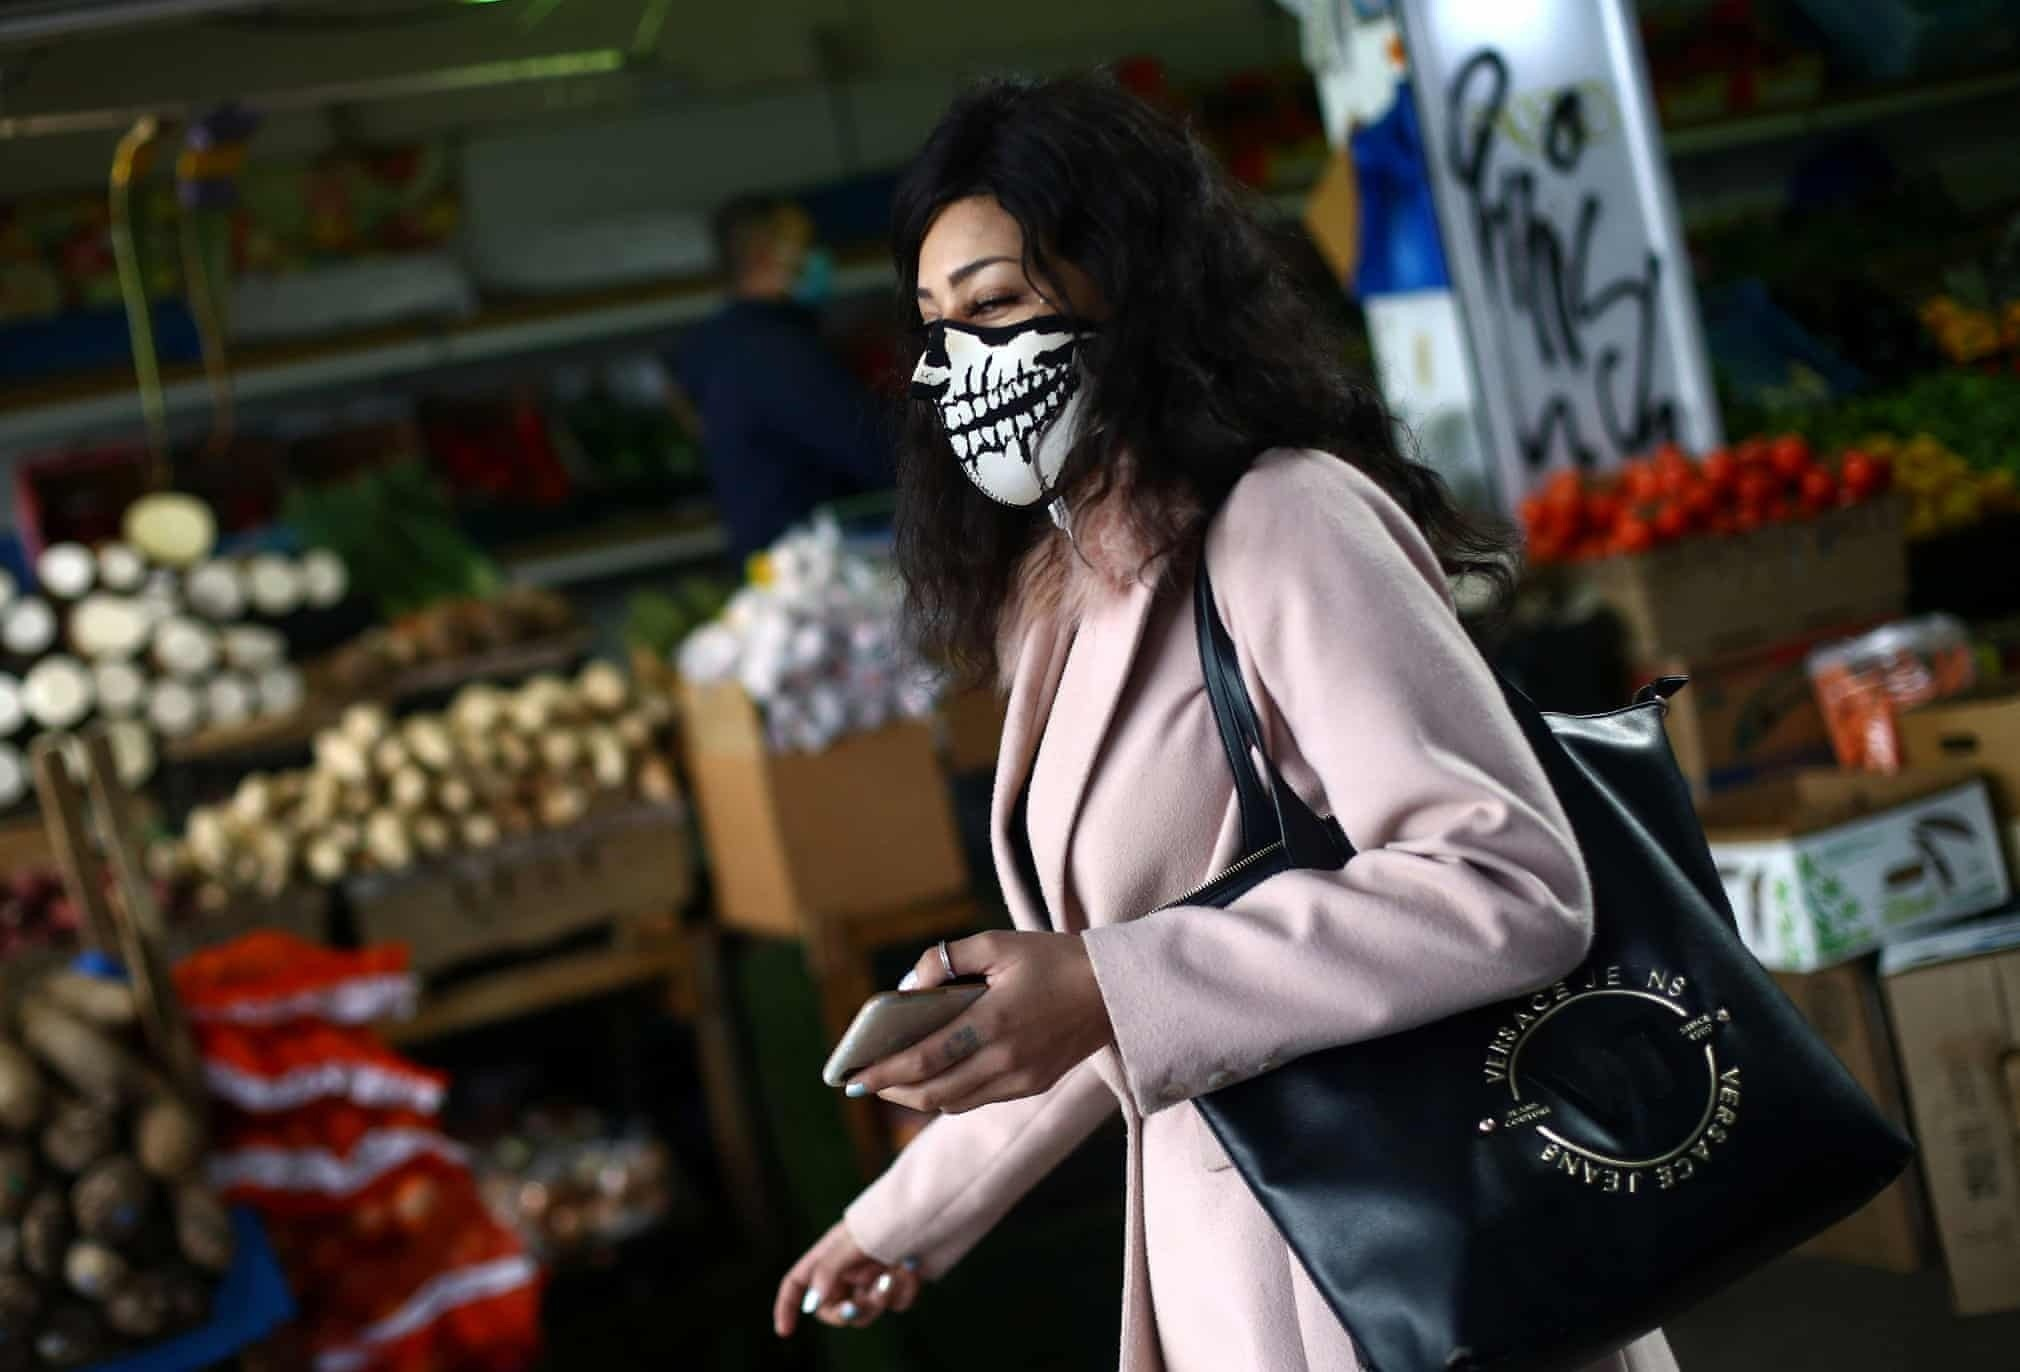face_with_mask: (902, 175, 1171, 506)
